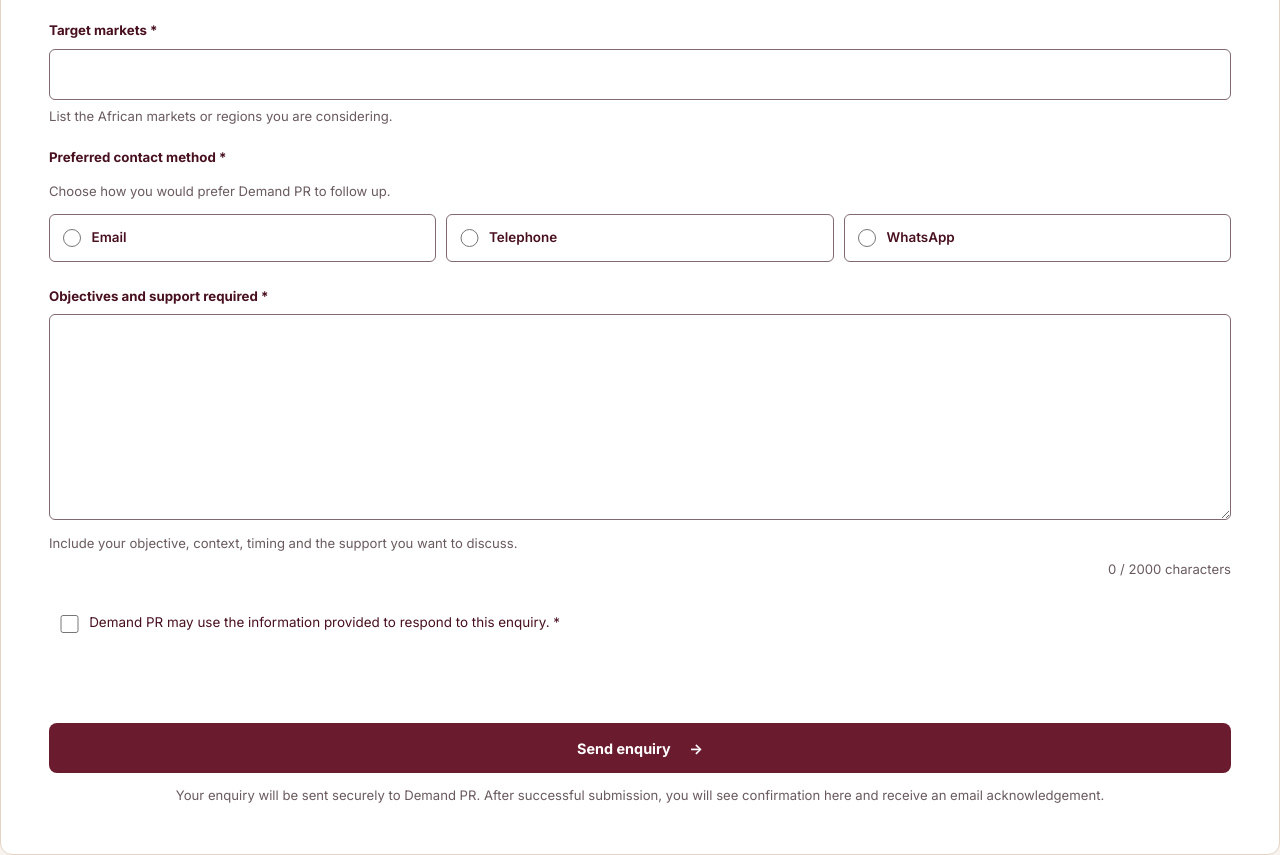
ContactForm › clears a field error as the visitor corrects that field
(page scrolled)
Step 1. Click the button "Send enquiry →" → (640, 748), box top-left (49, 723), bottom-right (1231, 773)
(page scrolled)
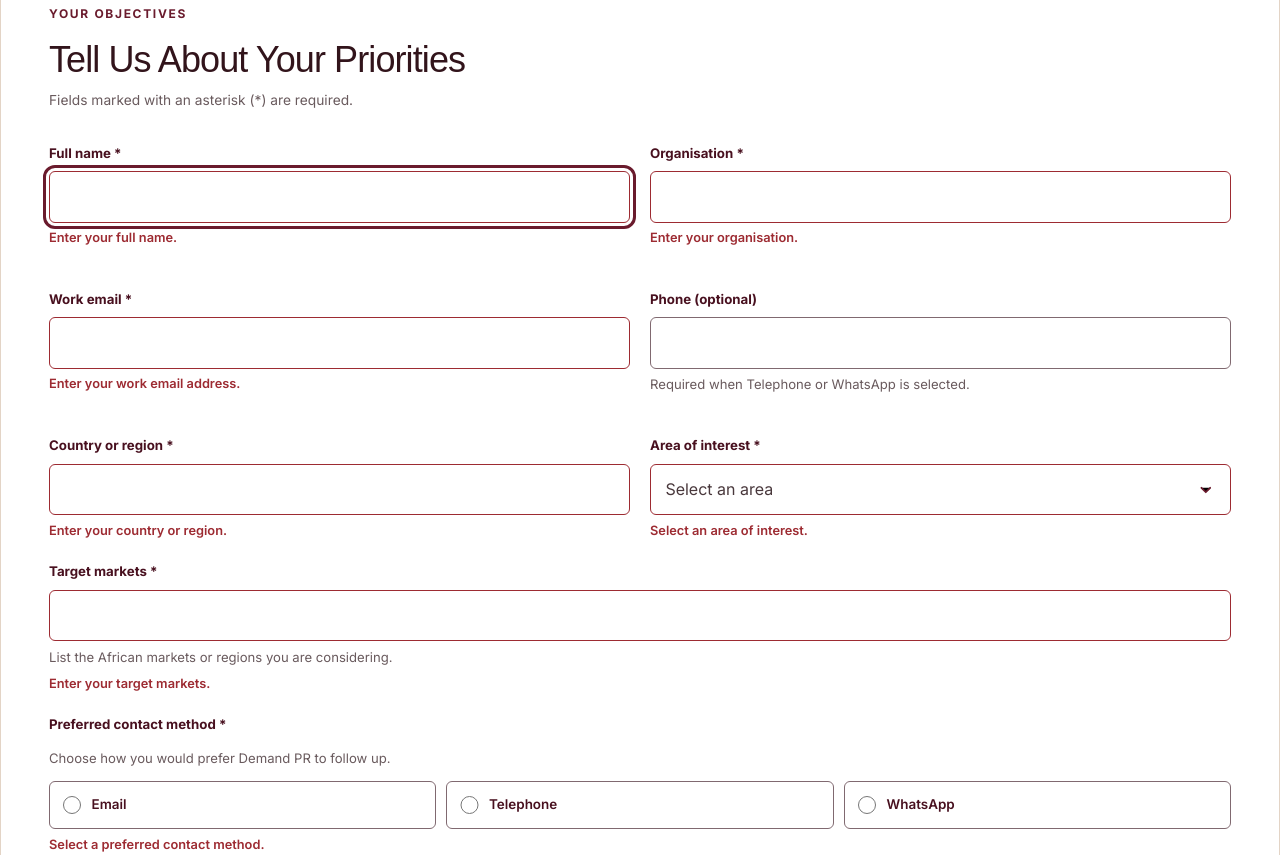
Step 2. Type "Ada Okafor" into the field labelled "Full name *" → (340, 197), box top-left (49, 171), bottom-right (630, 223)
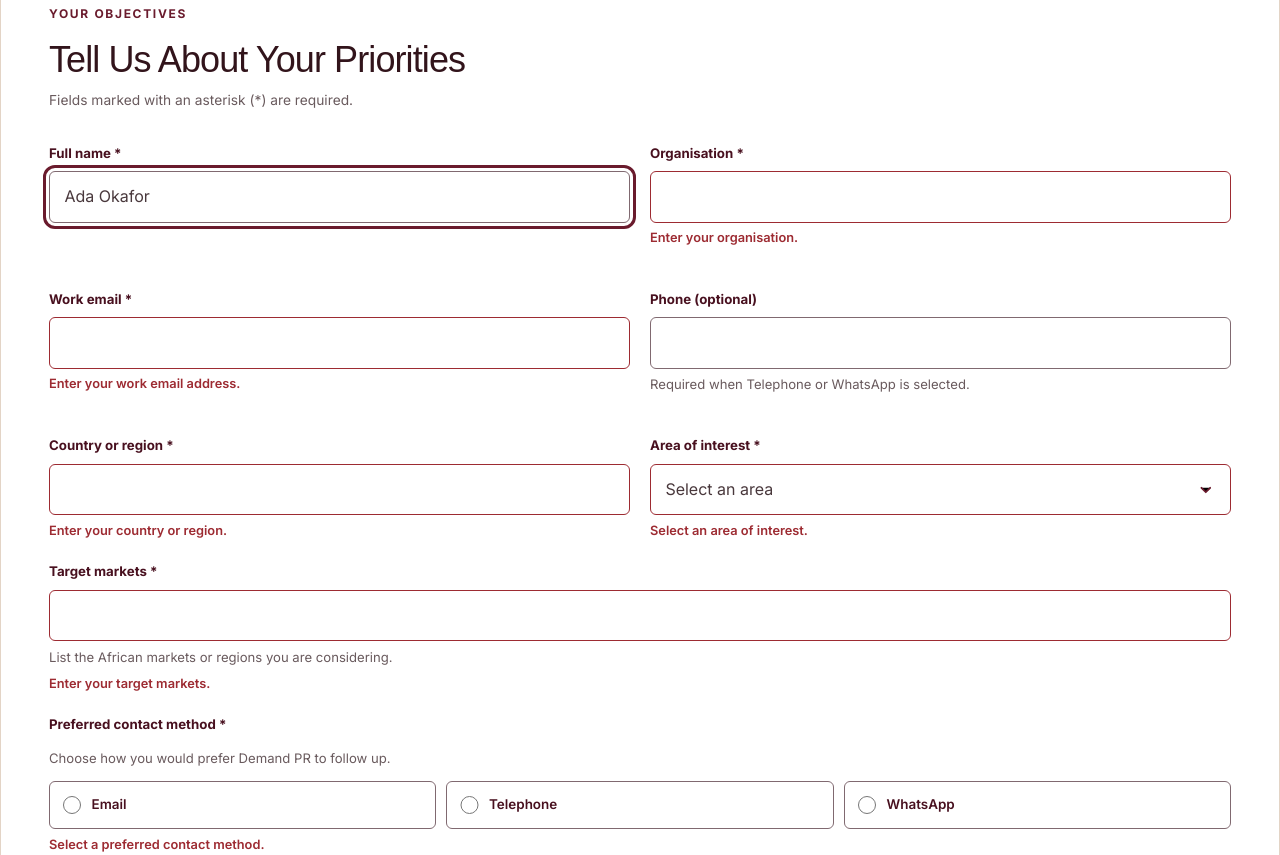
Expected: the text "Enter your full name" is gone
